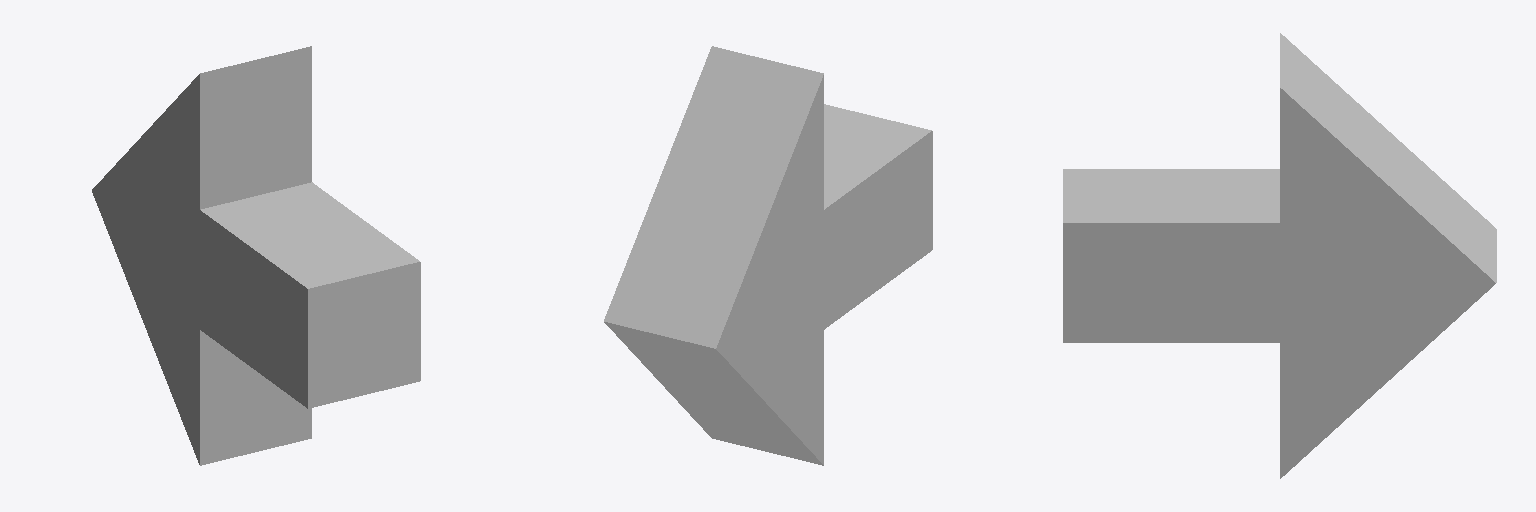
Rendered from Arrow.obj.
3 renders of one model, left to right at view 1: azimuth 30°, elevation 25°; view 2: azimuth 150°, elevation 25°; view 3: azimuth 270°, elevation 25°, orthographic.
Parts seen in each view (by area): view 1: 立方体; view 2: 立方体; view 3: 立方体.
Boxes of the visible parts, <box> form: 立方体: <box>92,46,420,465</box>; 立方体: <box>604,46,932,465</box>; 立方体: <box>1063,33,1496,478</box>.
Bounding box in the file's own units: 0.6 × 2 × 2.